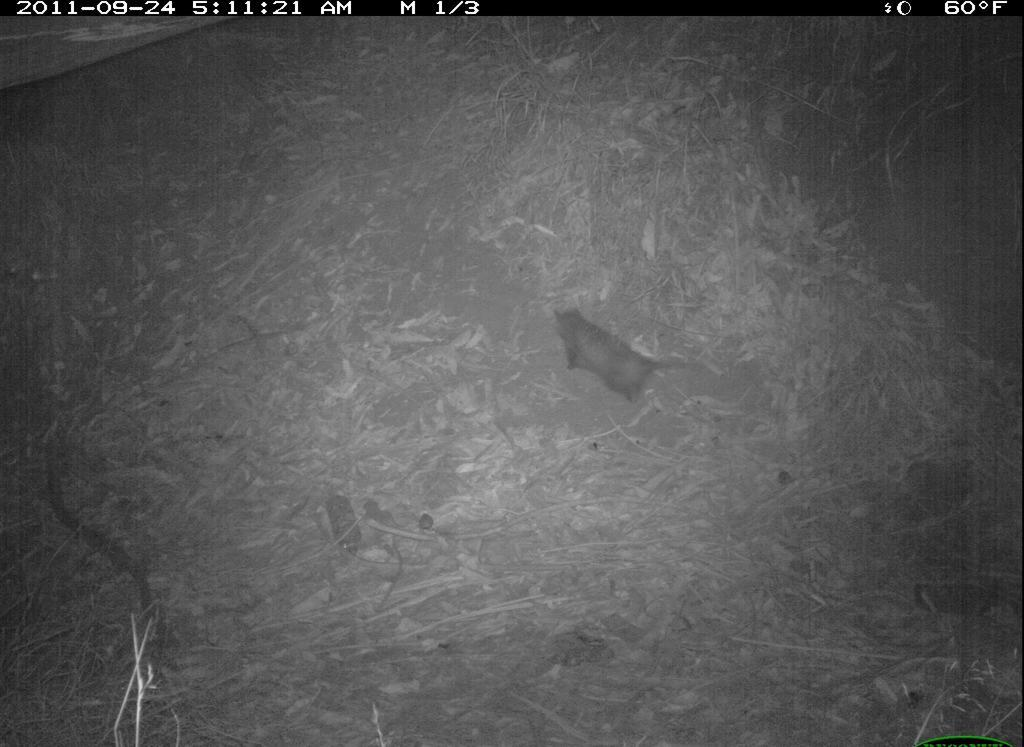opossum: (548, 296, 703, 415)
